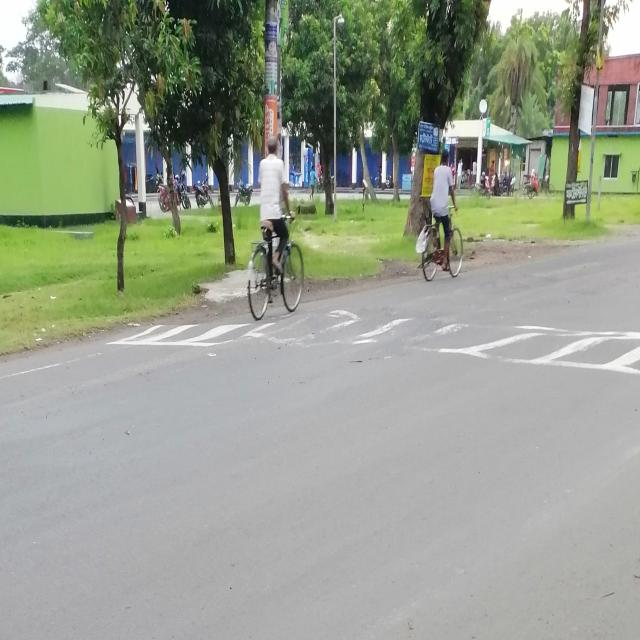Bicycle: (241, 217, 312, 325), (410, 199, 470, 288)
